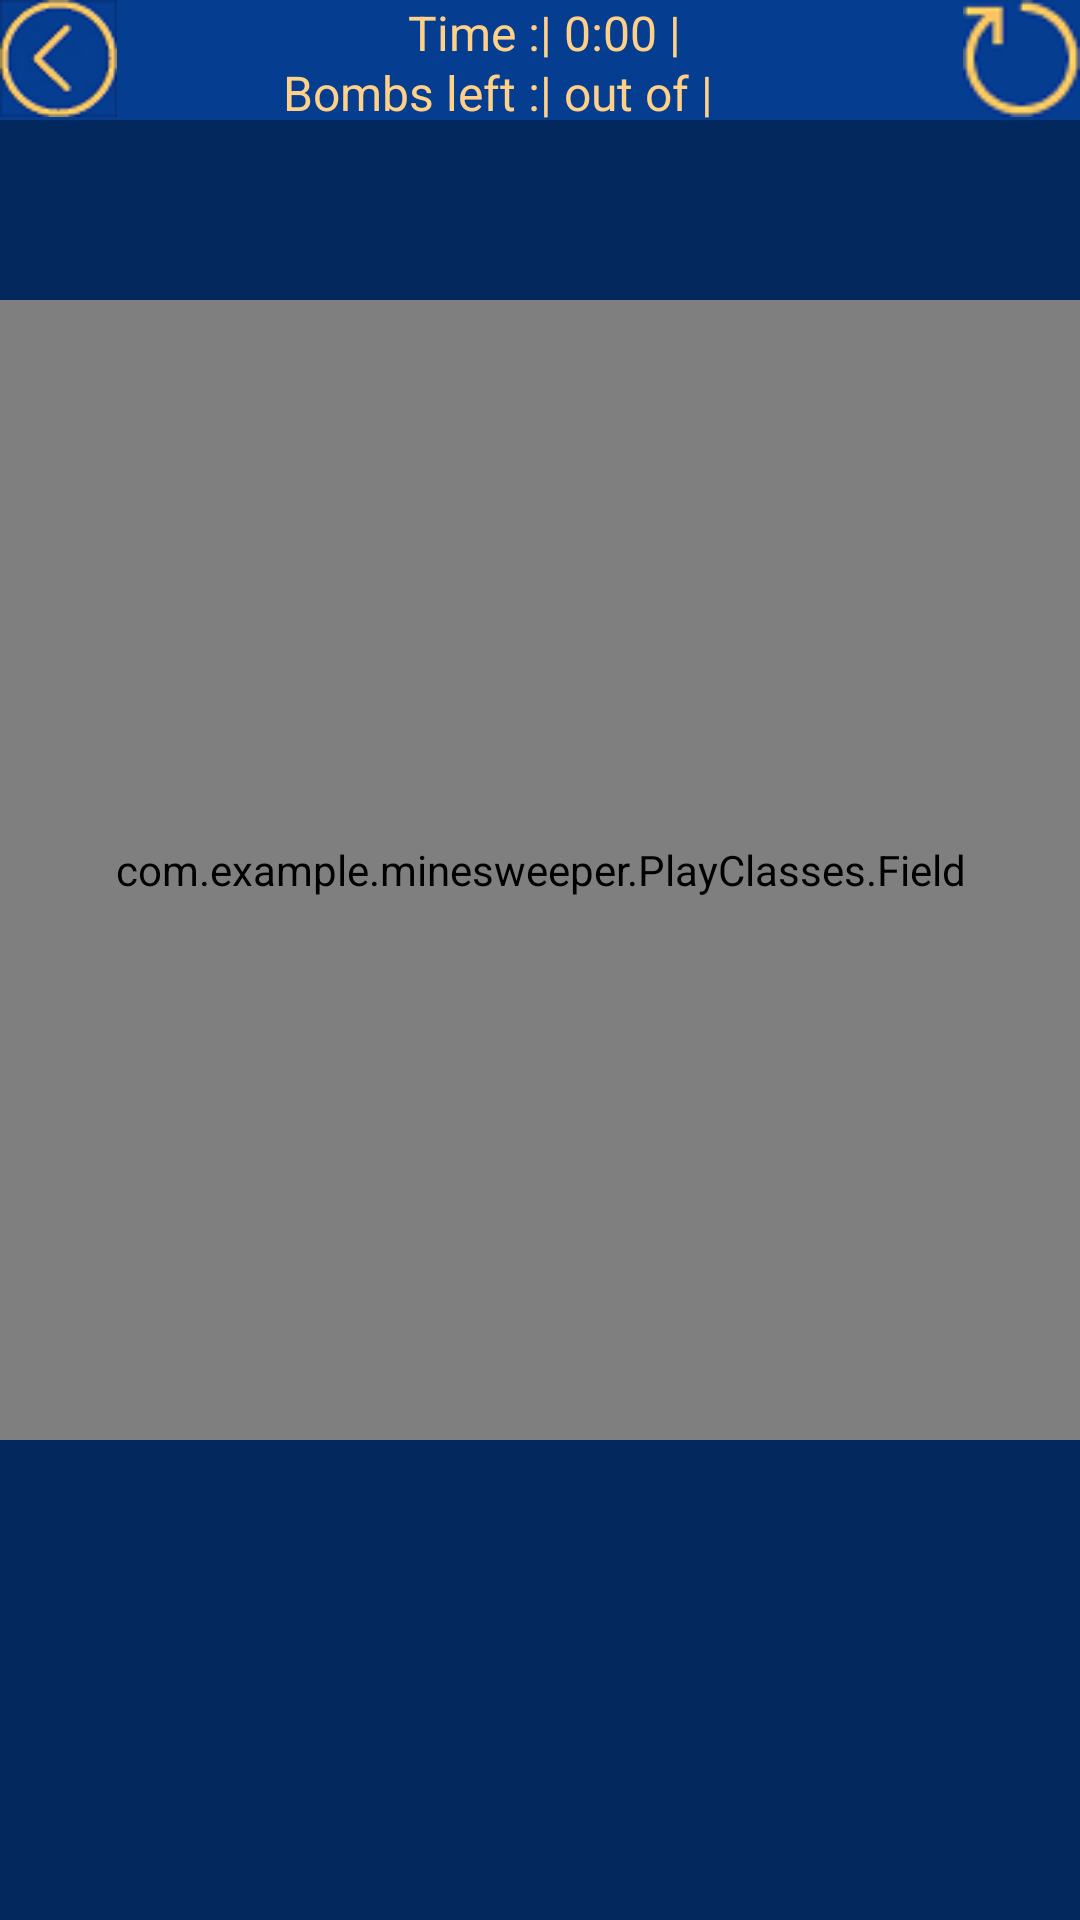

Icons on this 1080w x 1920h Android screen, each with its box as bbox=[x1, y1, x2, y2]:
Back: bbox=[0, 0, 117, 117]
Restart: bbox=[963, 0, 1080, 117]
